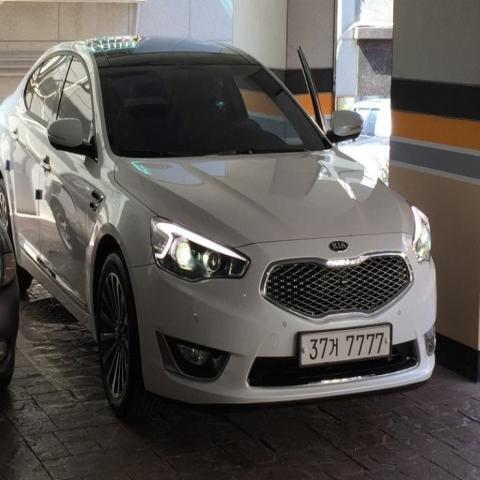LP: (294, 320, 395, 372)
